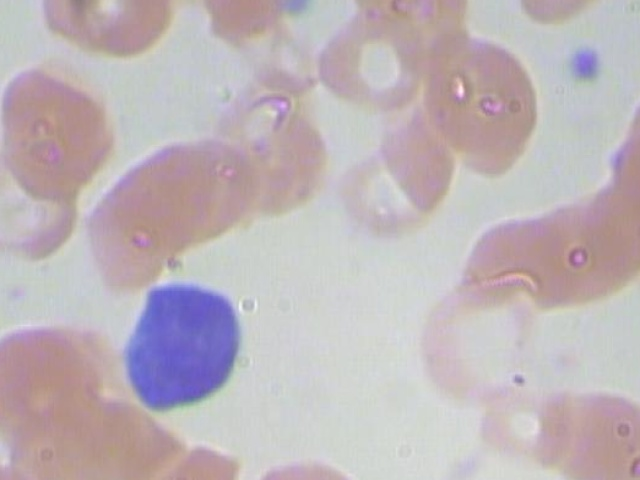Platelets: (555, 31, 609, 91), (282, 0, 324, 21)
RBC: (412, 26, 541, 177), (452, 195, 593, 331), (410, 276, 551, 411), (0, 55, 122, 211), (513, 174, 640, 309), (334, 112, 463, 229), (314, 142, 442, 259), (309, 4, 437, 120), (159, 114, 268, 249), (218, 88, 327, 222), (75, 162, 183, 297), (113, 126, 221, 260), (0, 313, 105, 448), (0, 132, 92, 266), (544, 373, 640, 480), (24, 0, 133, 67), (75, 0, 183, 58), (599, 107, 640, 237), (185, 0, 294, 45), (249, 441, 365, 480), (493, 0, 616, 28), (627, 63, 640, 193), (509, 0, 632, 6)
WBC: (105, 272, 254, 423)
